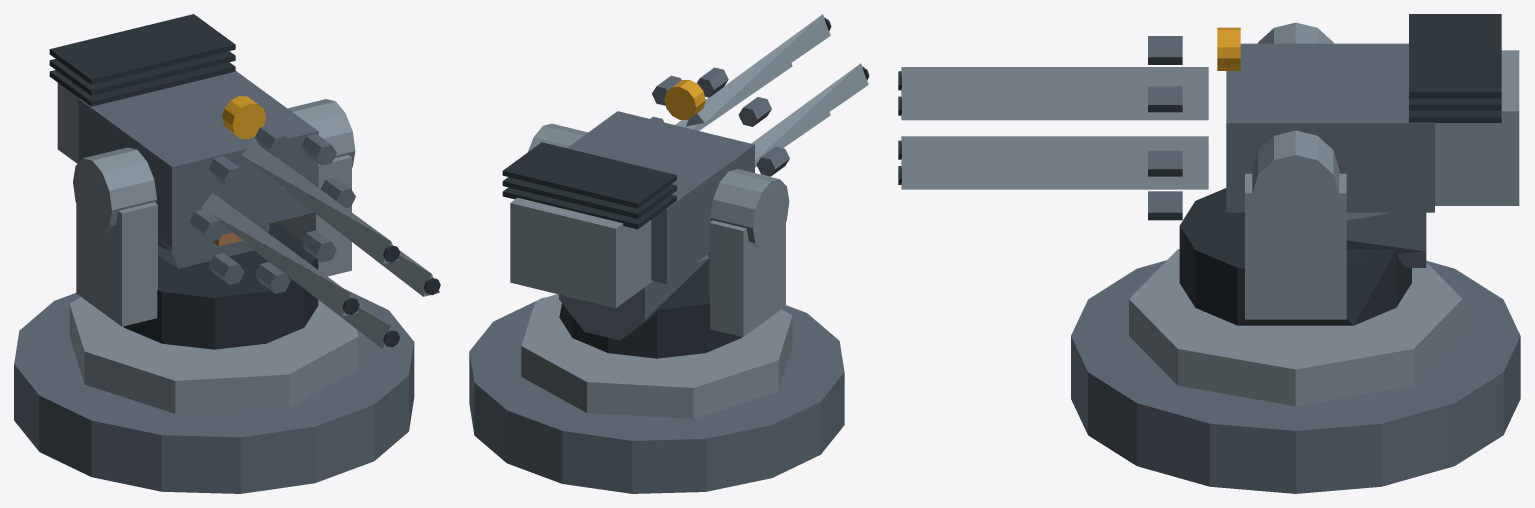
The model's file is rotor_t1_d0.meshopt.glb.
The picture shows the model from 3 angles, left to right: view 1: azimuth 30°, elevation 25°; view 2: azimuth 150°, elevation 25°; view 3: azimuth 270°, elevation 25°; orthographic projection. The views are drawn at different scales.
Parts seen in each view (by area): view 1: ROOT_ARMOR_GEOMETRY; view 2: ROOT_ARMOR_GEOMETRY; view 3: ROOT_ARMOR_GEOMETRY.
Part boxes in pixels (bbox=[...]): ROOT_ARMOR_GEOMETRY: bbox=[14, 14, 440, 493]; ROOT_ARMOR_GEOMETRY: bbox=[469, 14, 869, 493]; ROOT_ARMOR_GEOMETRY: bbox=[898, 14, 1520, 493].
Bounding box in the file's own units: 1.55 × 1.4 × 2.14.
